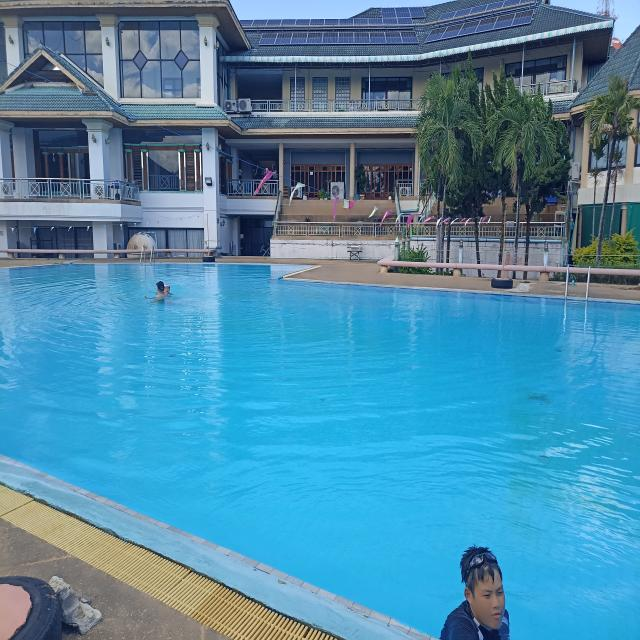Swimming: (429, 537, 526, 640), (140, 278, 176, 312)
